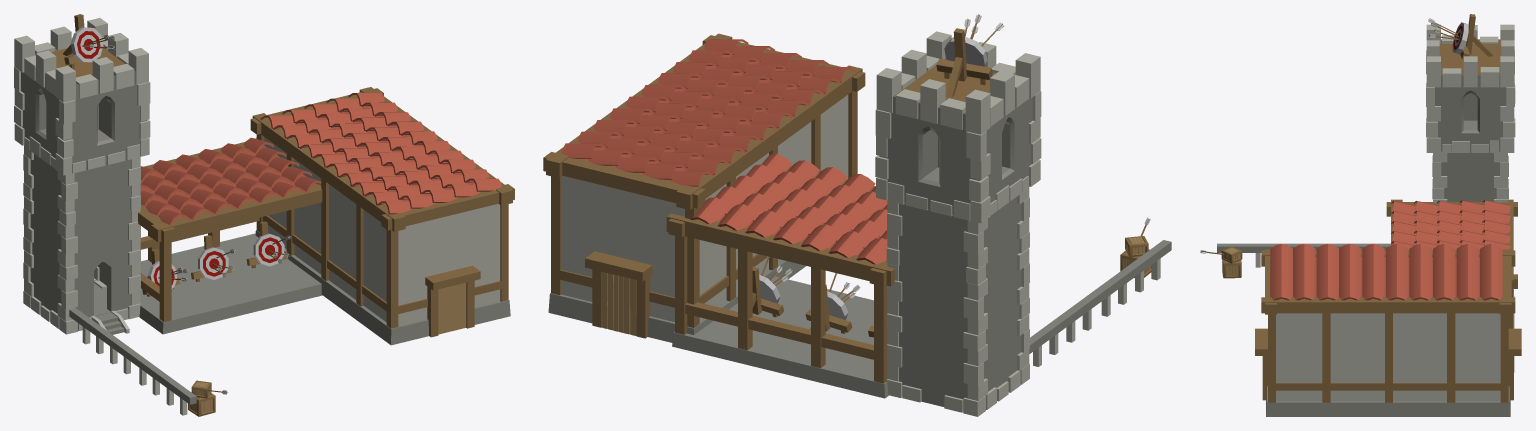
File: Archery Building.glb
3 renders of one model, left to right at view 1: azimuth 30°, elevation 25°; view 2: azimuth 150°, elevation 25°; view 3: azimuth 270°, elevation 25°, orthographic. The views are drawn at different scales.
Visible parts, largest first — view 1: Archery_SecondAge_Level2; view 2: Archery_SecondAge_Level2; view 3: Archery_SecondAge_Level2.
Part boxes in pixels (x1,y1,x2,y2): Archery_SecondAge_Level2: (14,14,514,416); Archery_SecondAge_Level2: (543,14,1171,416); Archery_SecondAge_Level2: (1200,14,1521,416).
Bounding box in the file's own units: 1.93 × 1.5 × 1.66.
